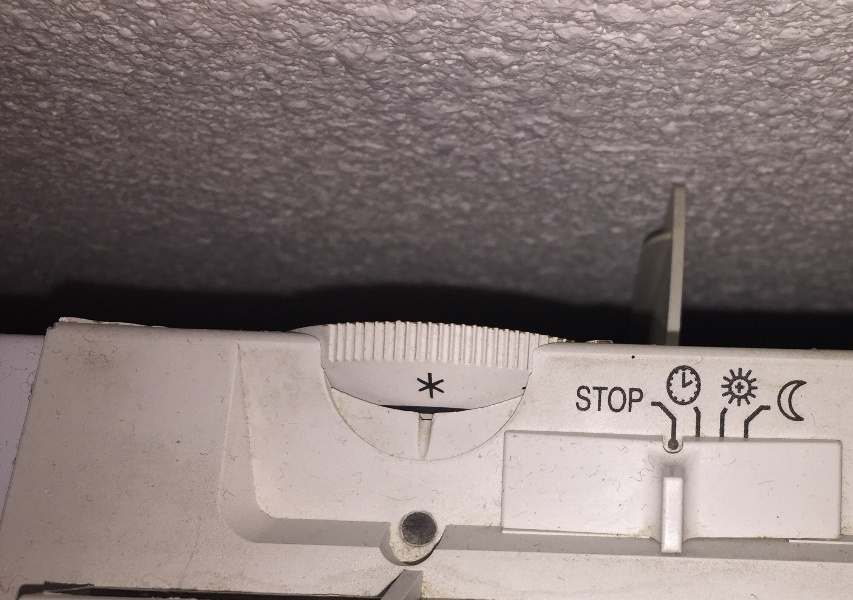text: (577, 385, 592, 414), (593, 385, 608, 414), (609, 385, 624, 414), (625, 385, 640, 414), (641, 385, 645, 414)
